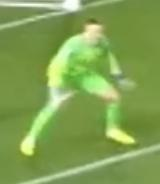goalkeeper: (14, 4, 147, 164)
